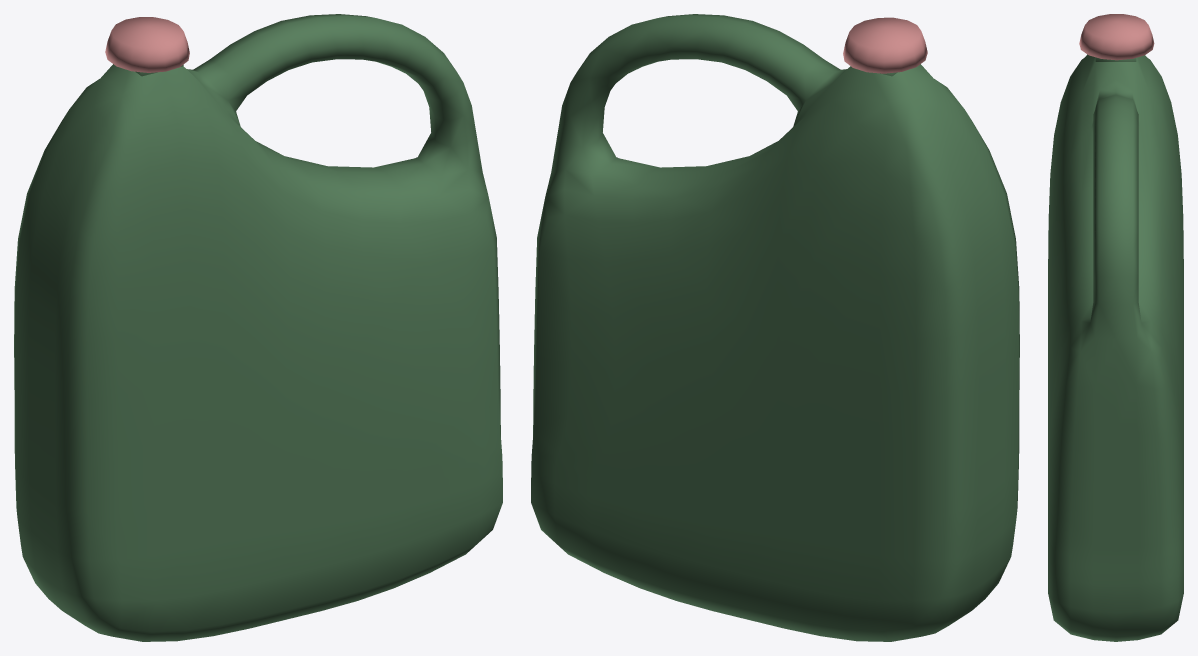
The model's file is 3D_Botella_Cloro.fbx.
3 renders of one model, left to right at view 1: azimuth 30°, elevation 25°; view 2: azimuth 150°, elevation 25°; view 3: azimuth 270°, elevation 25°, orthographic. The views are drawn at different scales.
Parts seen in each view (by area): view 1: Botella_Cloro1; view 2: Botella_Cloro1; view 3: Botella_Cloro1.
Boxes of the visible parts, bbox=[...] form: Botella_Cloro1: bbox=[14, 14, 502, 641]; Botella_Cloro1: bbox=[531, 14, 1019, 641]; Botella_Cloro1: bbox=[1048, 14, 1183, 641].
Bounding box in the file's own units: 17.69 × 23.76 × 5.64.
